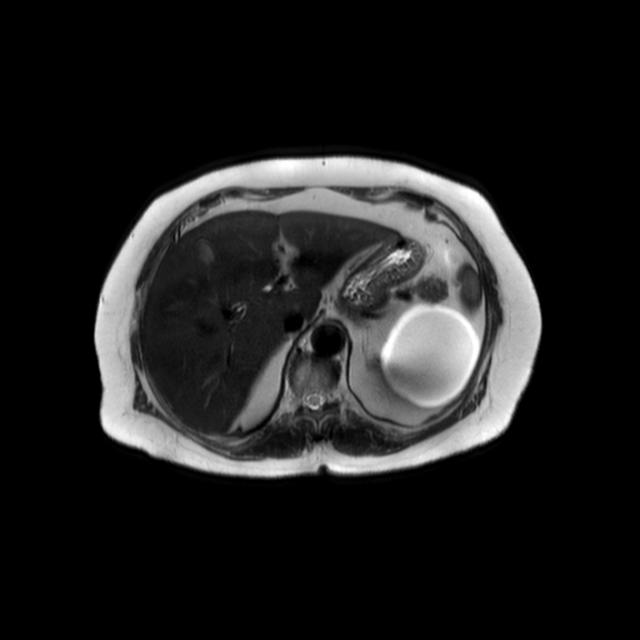sol: (373, 304, 480, 415)
